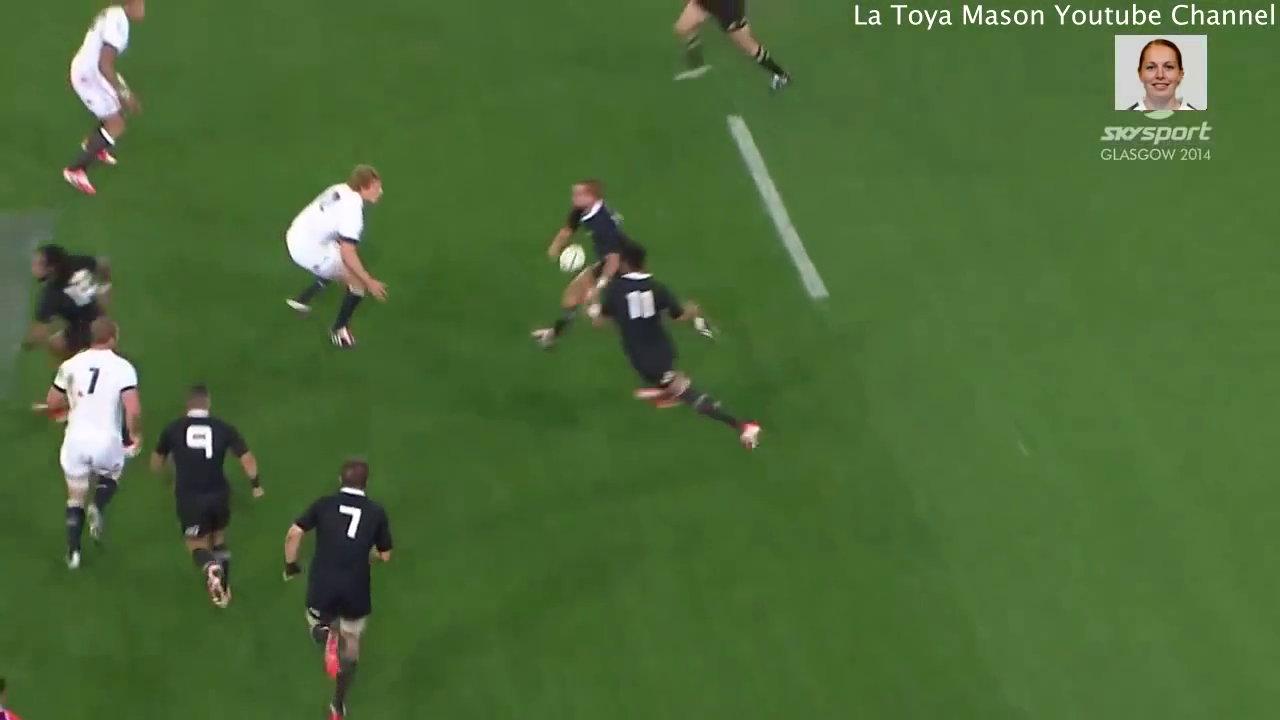ball: (553, 236, 594, 276)
player: (518, 166, 746, 366), (590, 236, 779, 470), (266, 436, 410, 720), (140, 376, 279, 617), (42, 309, 151, 579), (263, 154, 406, 354), (11, 235, 130, 429), (56, 1, 158, 208), (665, 1, 794, 108)
